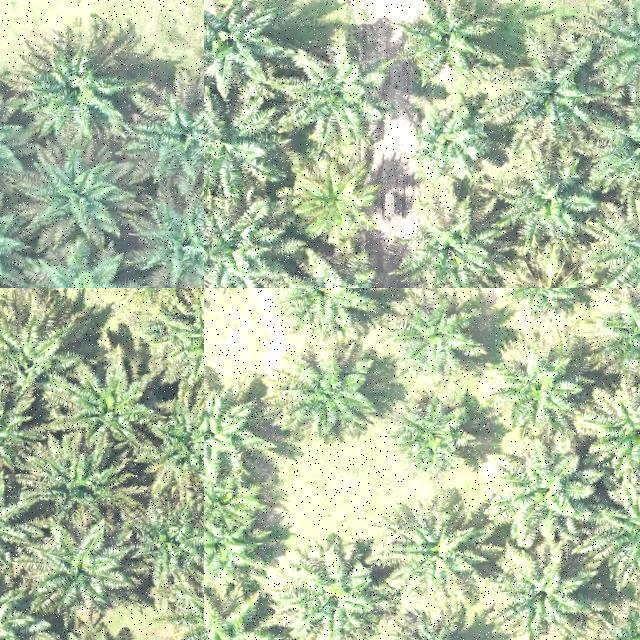Ganoderma: (302, 166, 372, 232), (511, 262, 579, 288)
